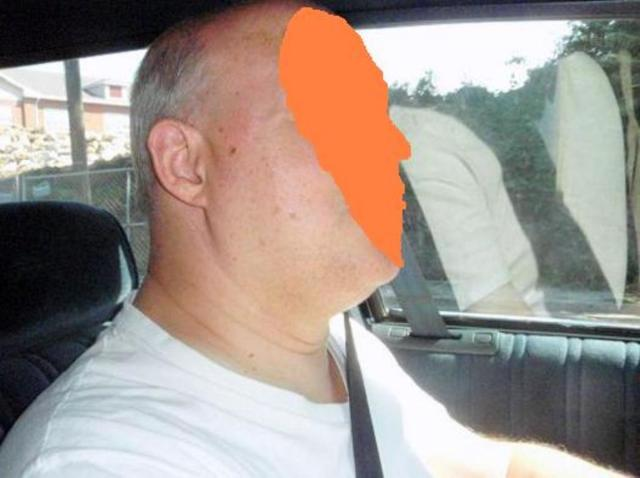Seatbelt: (344, 313, 384, 478)
